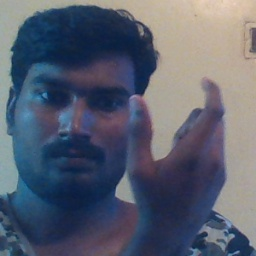U: (122, 71, 232, 220)
